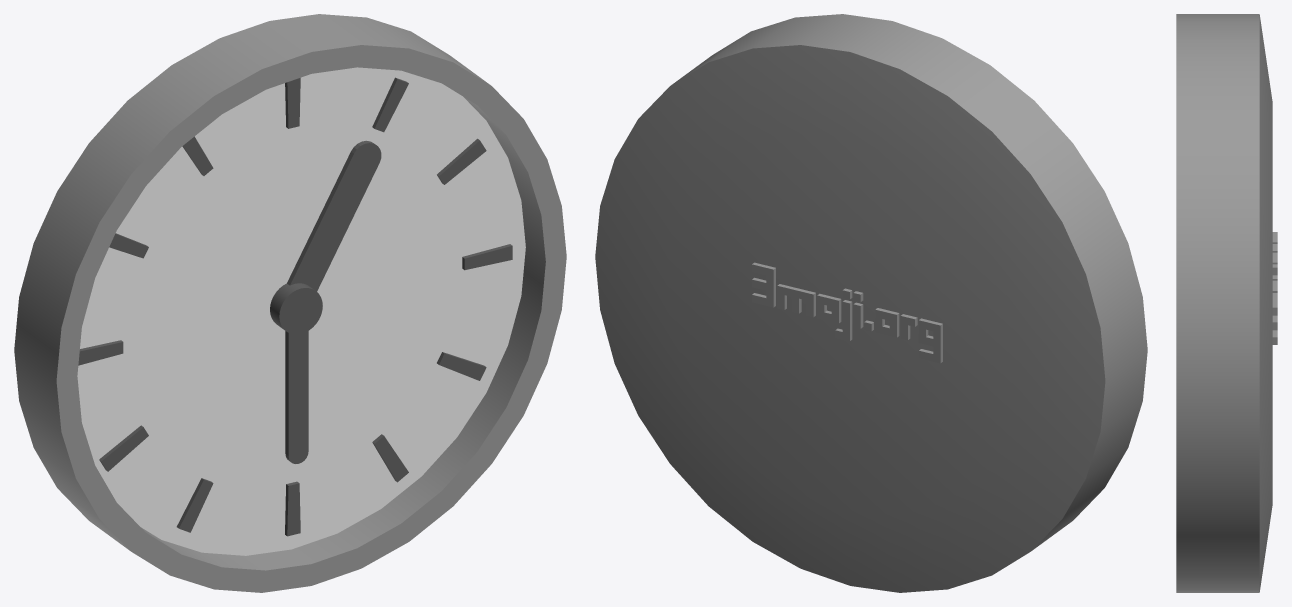
Rendered from one_thirty.fbx.
3 views of the same model, side by side, from view 1: azimuth 30°, elevation 25°; view 2: azimuth 150°, elevation 25°; view 3: azimuth 270°, elevation 25° (orthographic).
Visible parts, largest first — view 1: Circle.2438; view 2: Circle.2438; view 3: Circle.2438.
Boxes of the visible parts, box(x1,y1,x2,y2) form: Circle.2438: box(14, 14, 566, 592); Circle.2438: box(595, 14, 1147, 592); Circle.2438: box(1176, 14, 1277, 592).
Size of the model in its own units: 233 by 233 by 40.69.
1 material, 1 textured.
